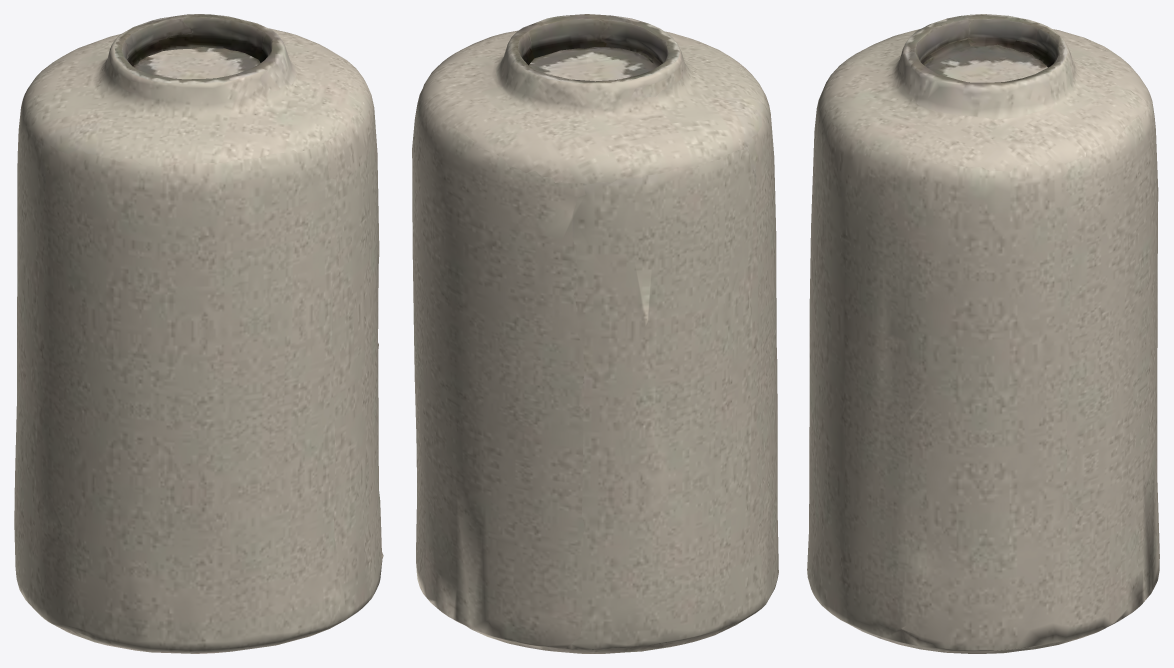
File: vase.lod1.glb
The picture shows the model from 3 angles, left to right: view 1: azimuth 30°, elevation 25°; view 2: azimuth 150°, elevation 25°; view 3: azimuth 270°, elevation 25°; orthographic projection.
Visible parts, largest first — view 1: geometry_0; view 2: geometry_0; view 3: geometry_0.
Part boxes in pixels (x1,y1,x2,y2): geometry_0: (14,14,383,653); geometry_0: (412,14,778,653); geometry_0: (807,14,1159,653).
Size of the model in its own units: 0.125 by 0.1999 by 0.12.
1 material, 1 textured.
